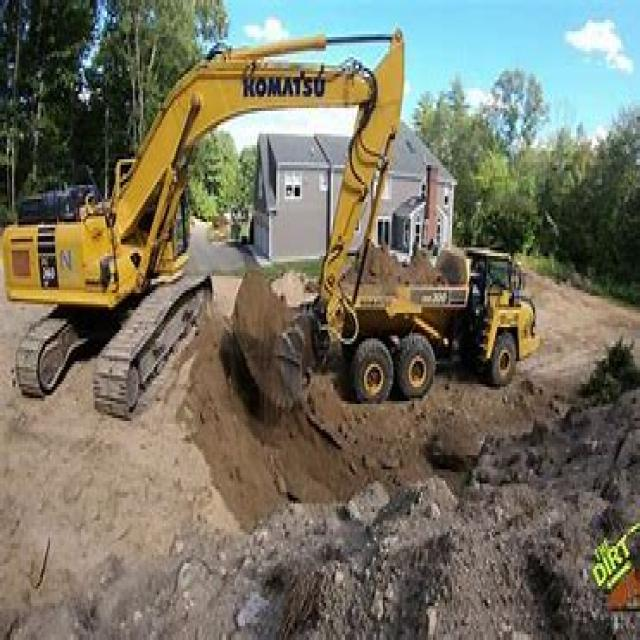dump_truck: (346, 234, 536, 396)
excavator: (17, 28, 404, 416)
